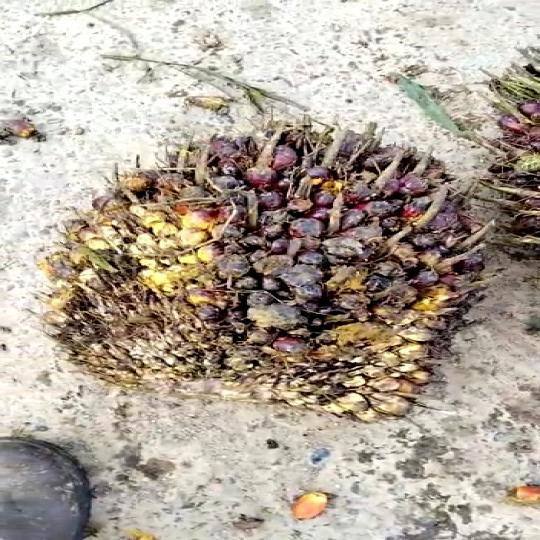kurang masak: (51, 85, 511, 455)
